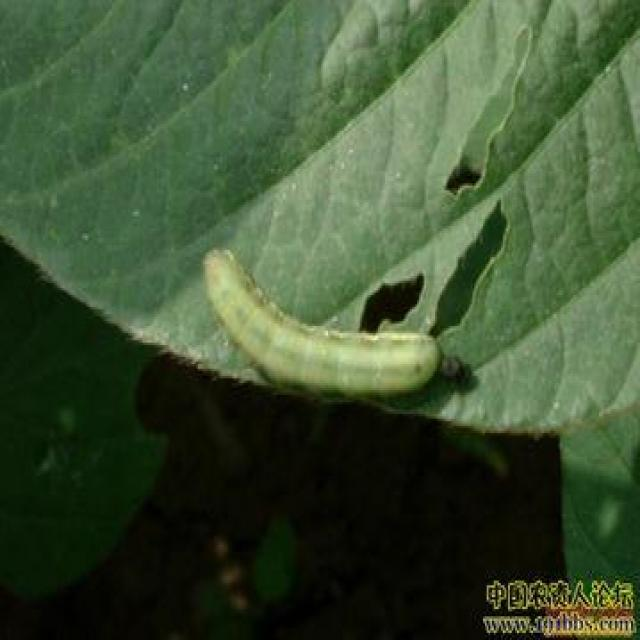BeetArmyWorm-Larva-: (193, 238, 453, 410)
